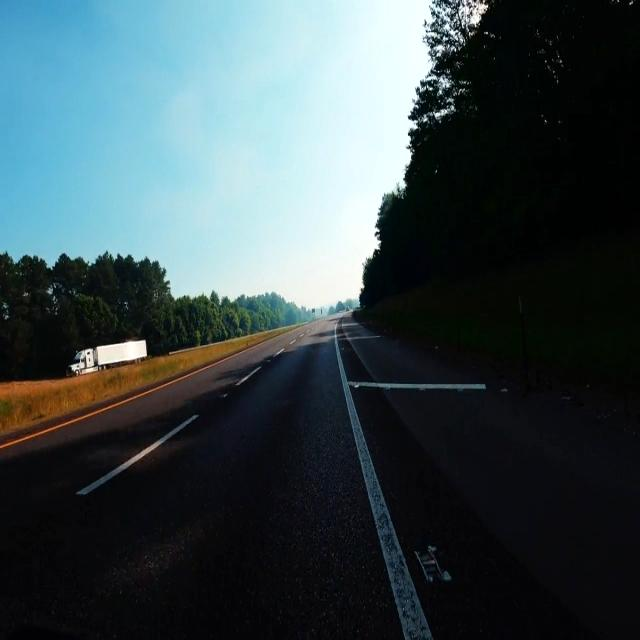road: (0, 319, 402, 637), (352, 373, 640, 637), (338, 317, 473, 380)
